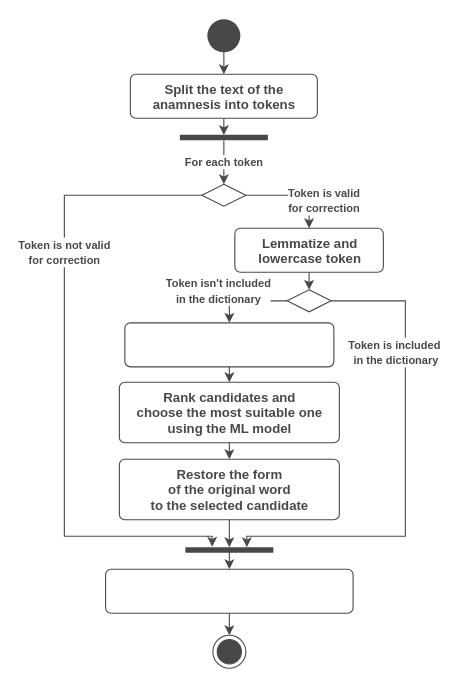
Image size: 459x688. Some labels were removed from this diagram. The shapes that lost their labels are listed below. From the top down, each one's box as (x1, y1, x2, y2) in pixels, then its label:
(124, 322, 334, 367): Extract from SymDel index of candidates for correction
(105, 568, 353, 613): Assemble all the correct tokens into result text
